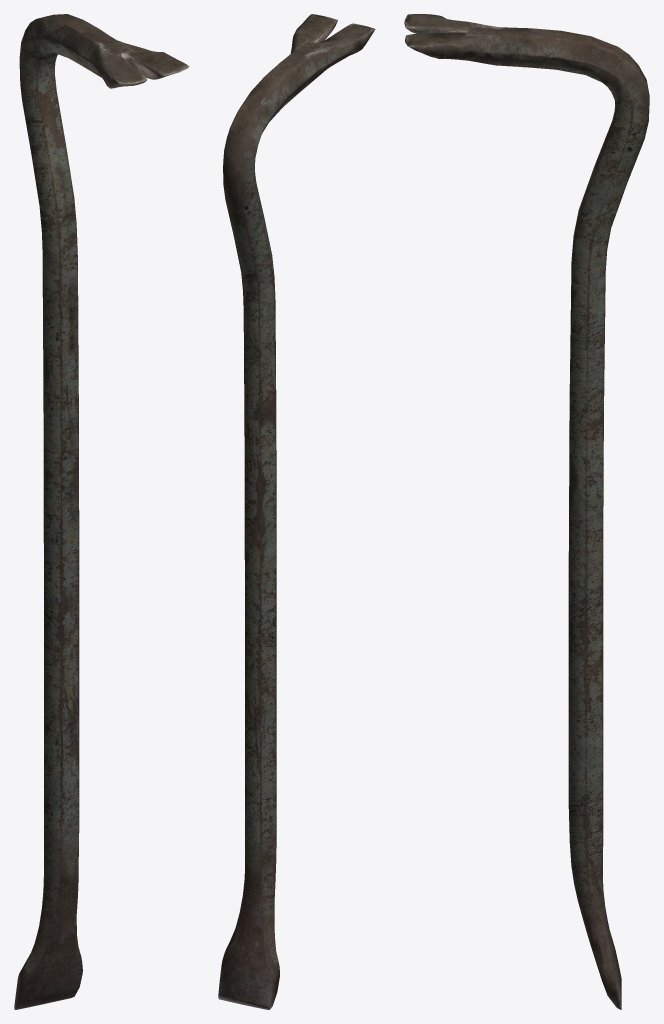
File: crowbar.glb
3 renders of one model, left to right at view 1: azimuth 30°, elevation 25°; view 2: azimuth 150°, elevation 25°; view 3: azimuth 270°, elevation 25°, orthographic. The views are drawn at different scales.
Parts seen in each view (by area): view 1: crowbar_01; view 2: crowbar_01; view 3: crowbar_01.
Boxes of the visible parts, x1,y1,x2,y2 form: crowbar_01: [14, 14, 189, 1009]; crowbar_01: [218, 14, 375, 1009]; crowbar_01: [404, 14, 649, 1009].
Bounding box in the file's own units: 0.0404 × 0.5553 × 0.1276.
Materials: 1 (1 with a texture image).
